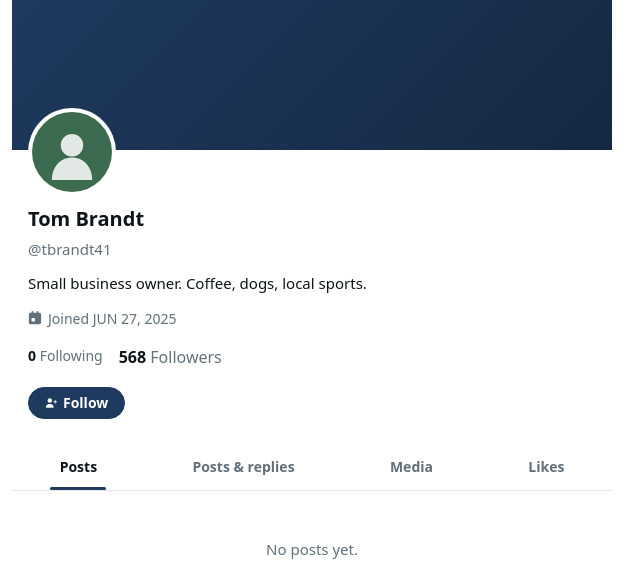
Test: Profile — header follower count tracks the follow button (CR-003, SOC-054) › moves the HEADER count when a NANO-band account is followed
Click the button with test id "follow-button" at (77, 403), box [28,386,125,419]
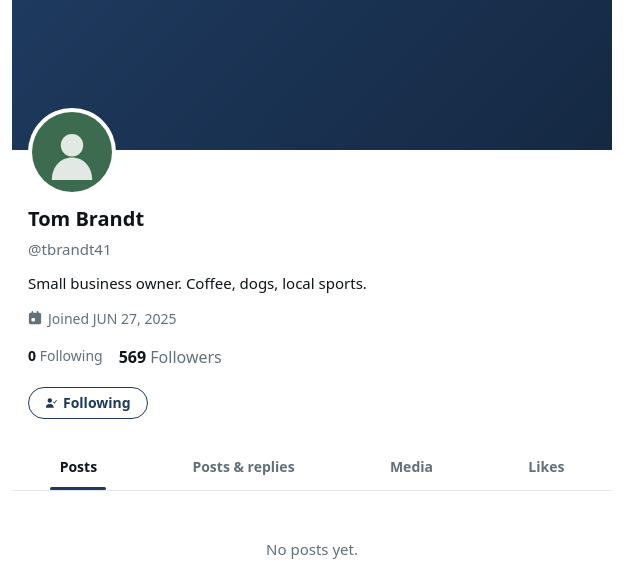
Expected: the button with test id "follow-button" reads "Following", [28,386,148,419]
